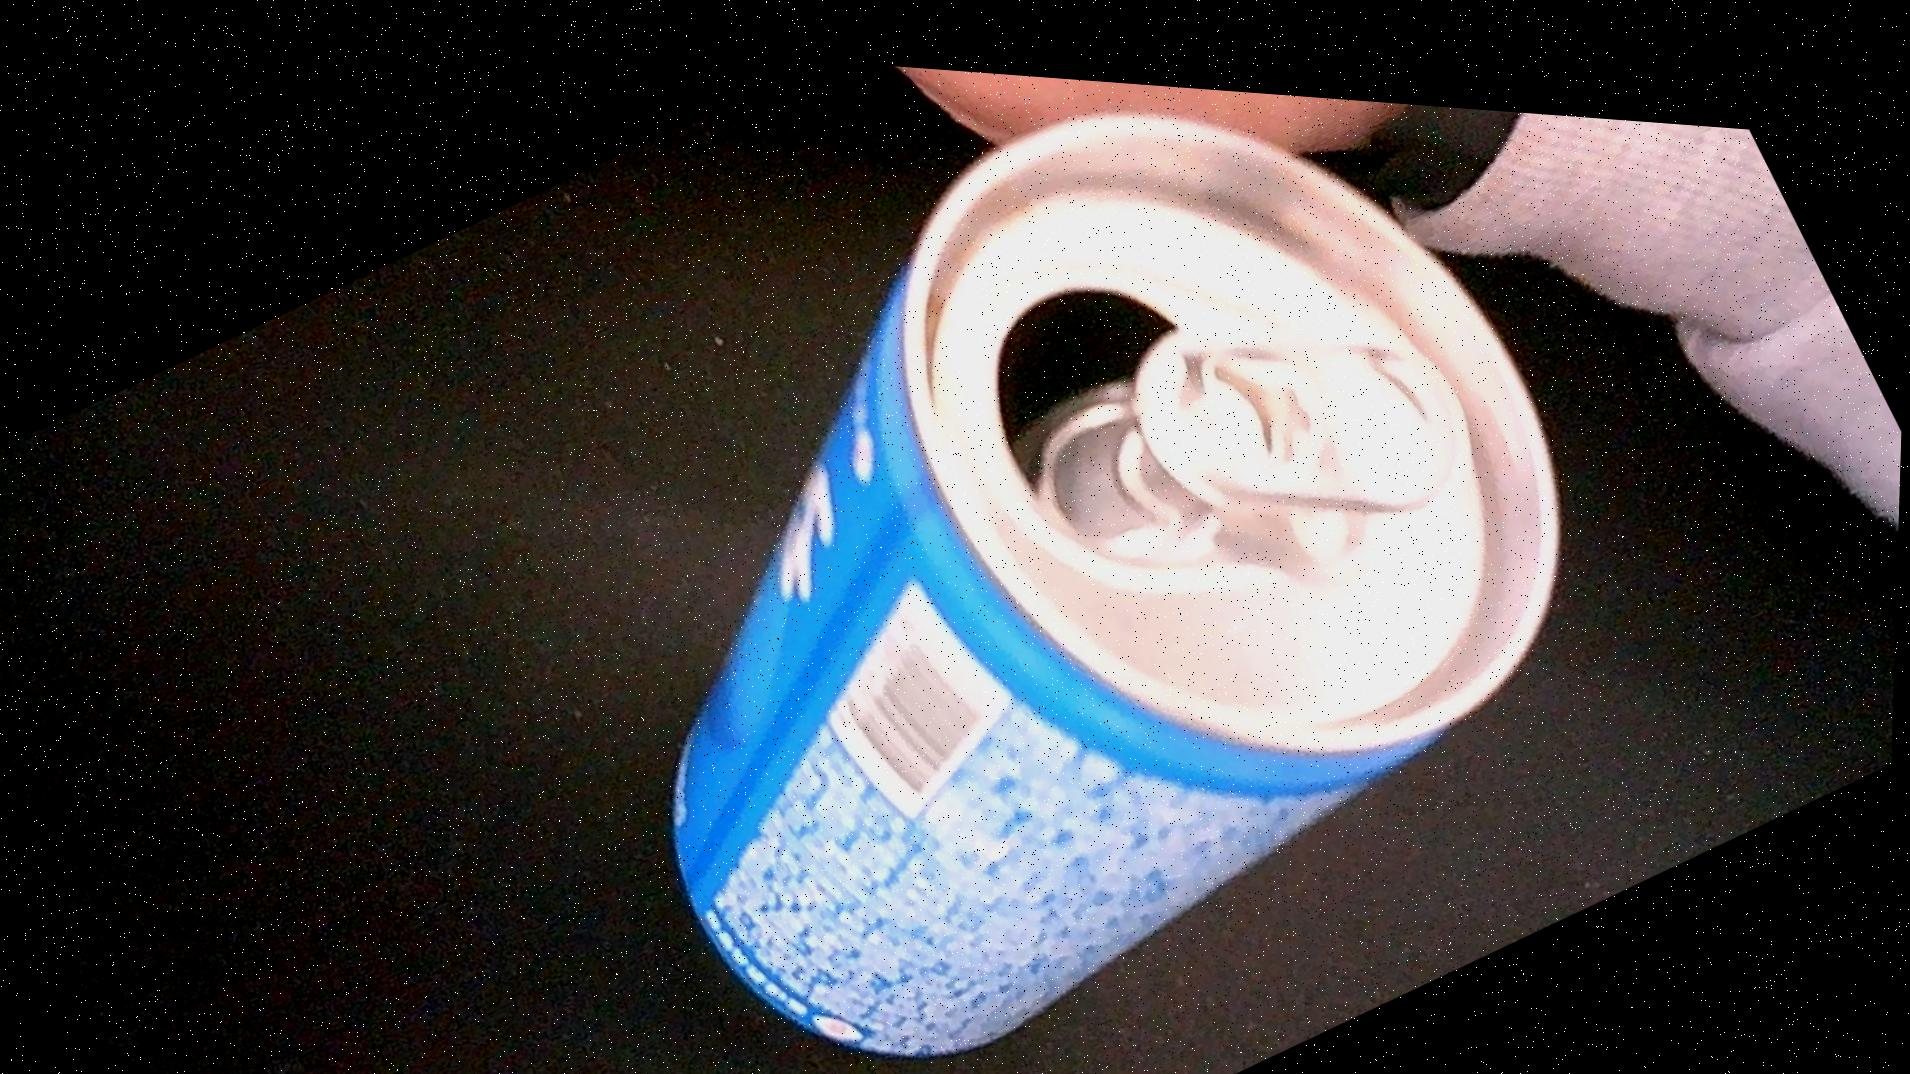letsbe: (428, 26, 1705, 1074)
